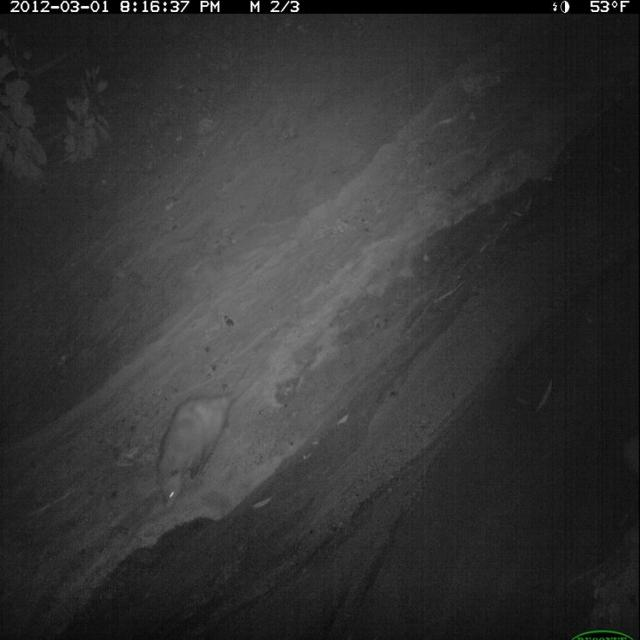opossum: (153, 371, 260, 516)
